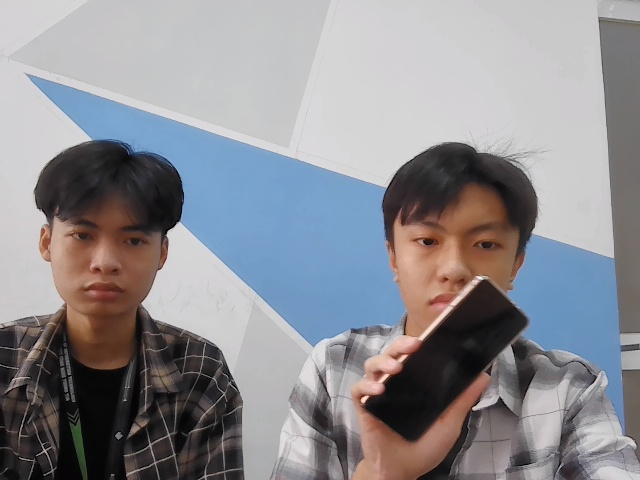human: (377, 131, 542, 322), (37, 138, 193, 322)
phone: (368, 270, 537, 436)
